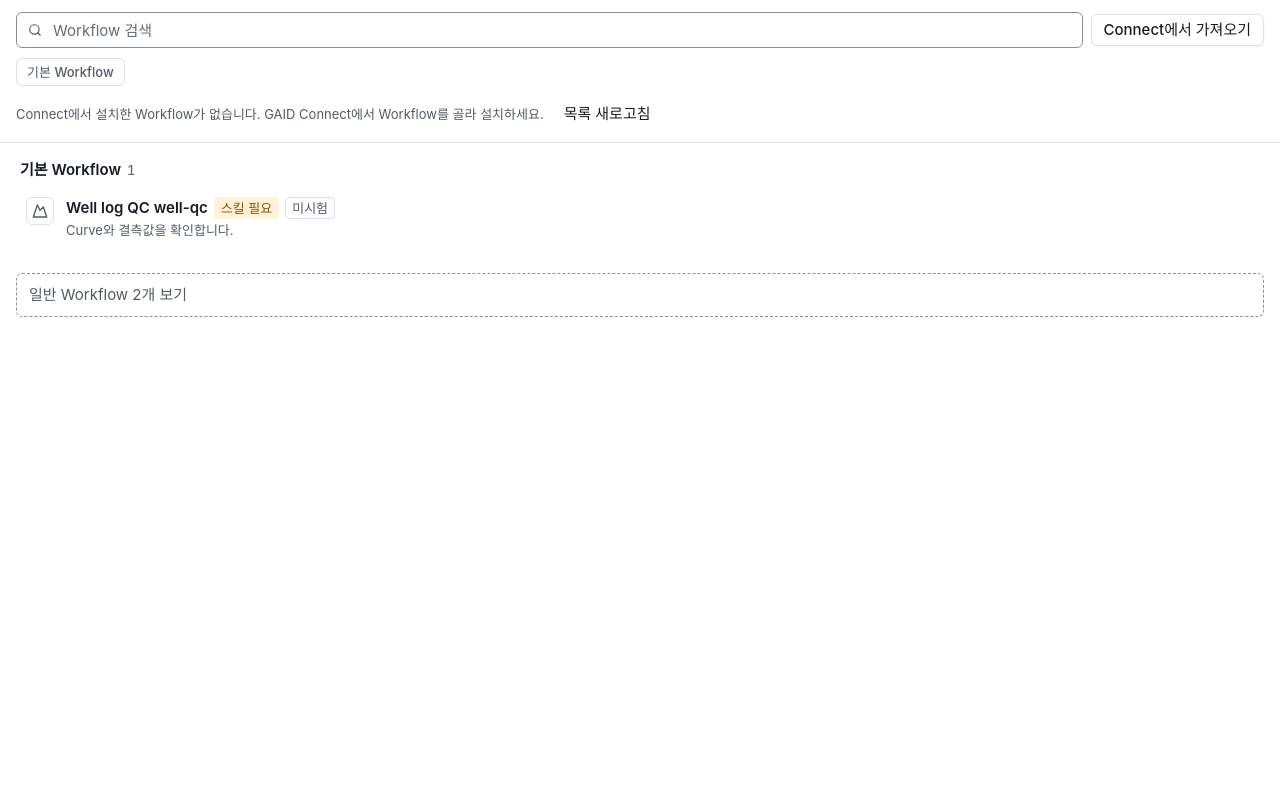
Test: task catalogue and setup › separates run record from readiness: missing-skills
Expected: the text "스킬 필요" is shown, x1=214 y1=197 x2=279 y2=219
Click the button "Well log QC well-qc 스킬 필요 미시험 Curve와 결측값을 확인합니다.".
click(137, 208)  # box x1=16 y1=187 x2=1264 y2=249
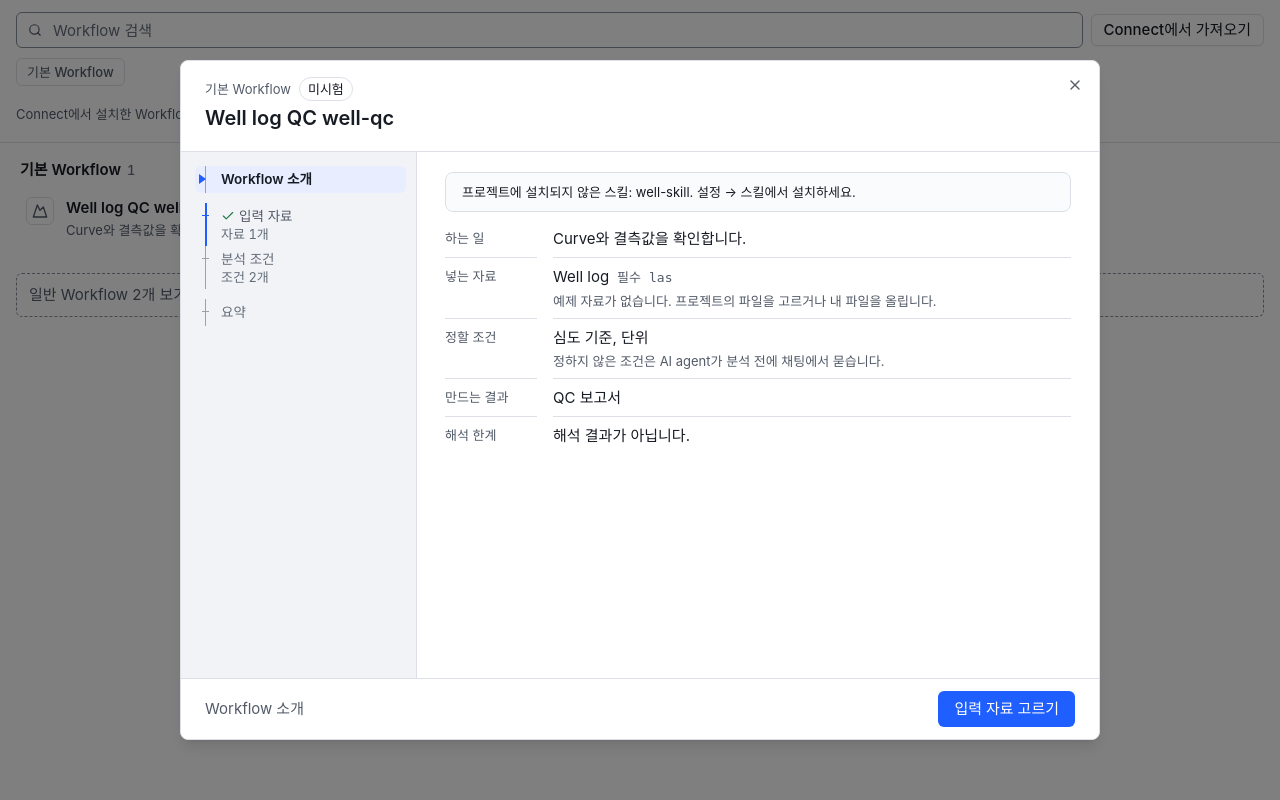
Expected: the text "프로젝트에 설치되지 않은 스킬: well-skill. 설정 → 스킬에서 설치하세요." is shown, x1=462 y1=182 x2=856 y2=200
Expected: the element named "Workflow 소개" is shown, x1=445 y1=172 x2=1071 y2=212
Click the tab "입력 자료 자료 1개".
click(300, 224)  # box x1=195 y1=202 x2=406 y2=246
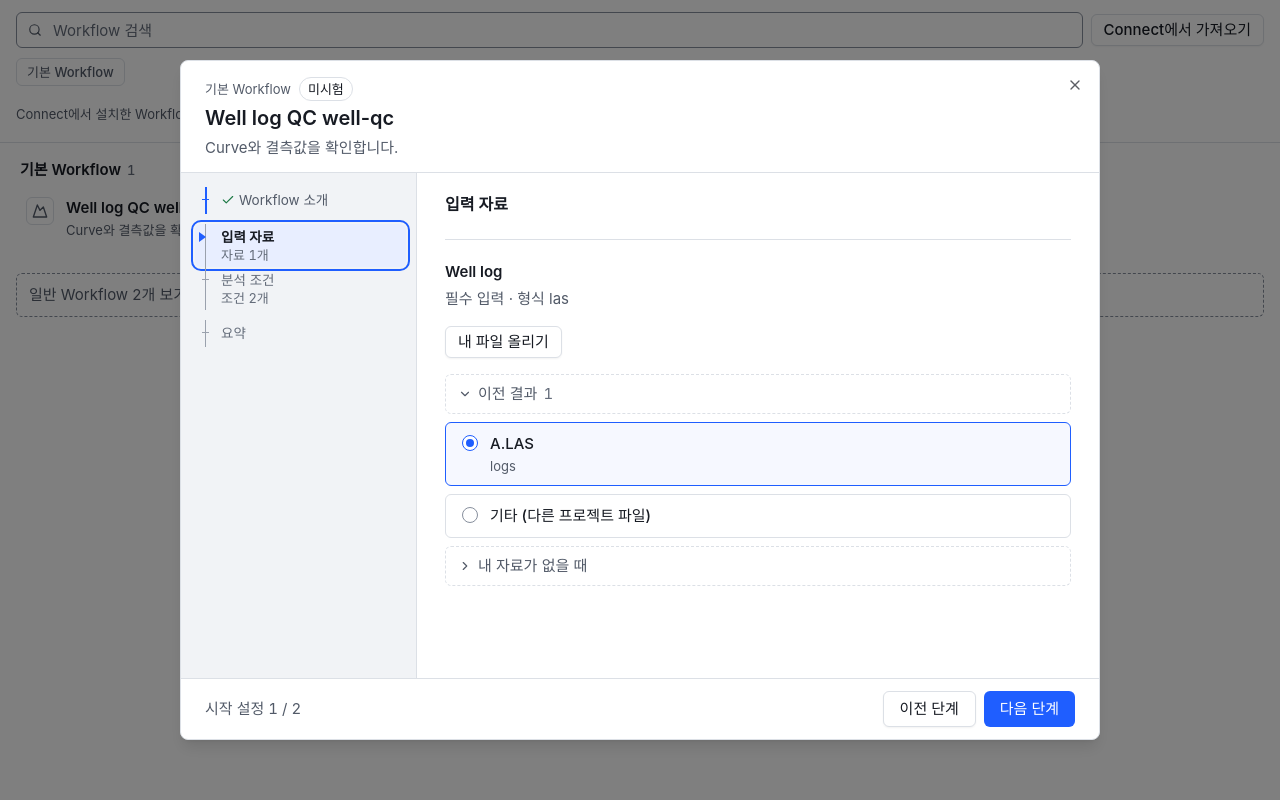
Click the tab "요약".
click(300, 333)  # box x1=195 y1=320 x2=406 y2=346
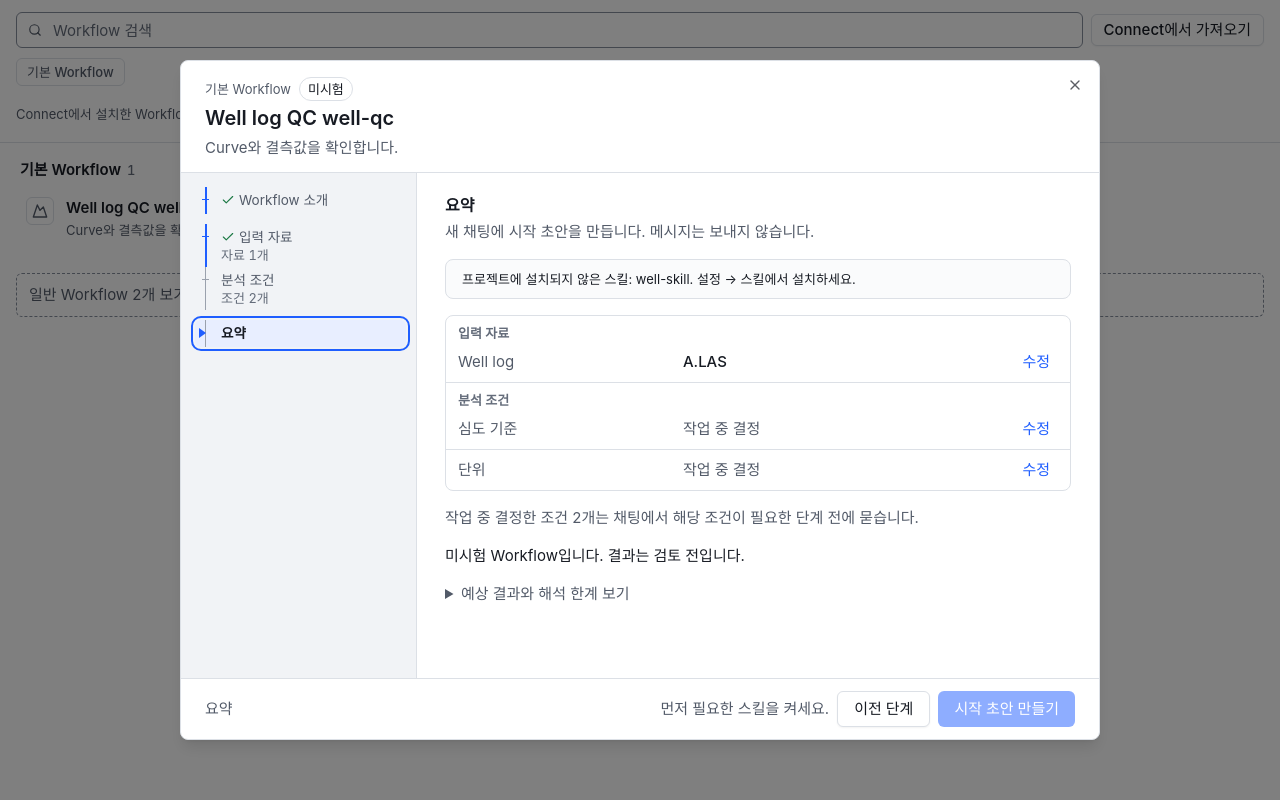
Expected: the button "시작 초안 만들기" is disabled, x1=938 y1=691 x2=1075 y2=727
